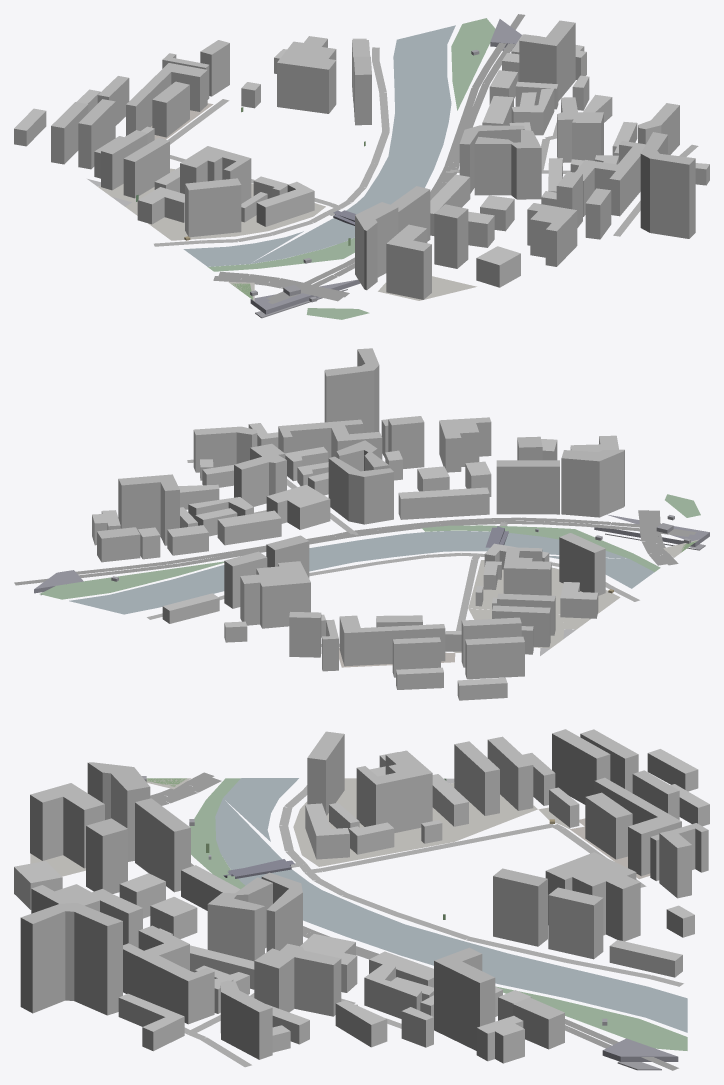
The picture shows the model from 3 angles, top to bottom: view 1: azimuth 30°, elevation 25°; view 2: azimuth 150°, elevation 25°; view 3: azimuth 270°, elevation 25°; orthographic projection. The views are drawn at different scales.
Bounding box in the file's own units: 545 × 86.88 × 529.
